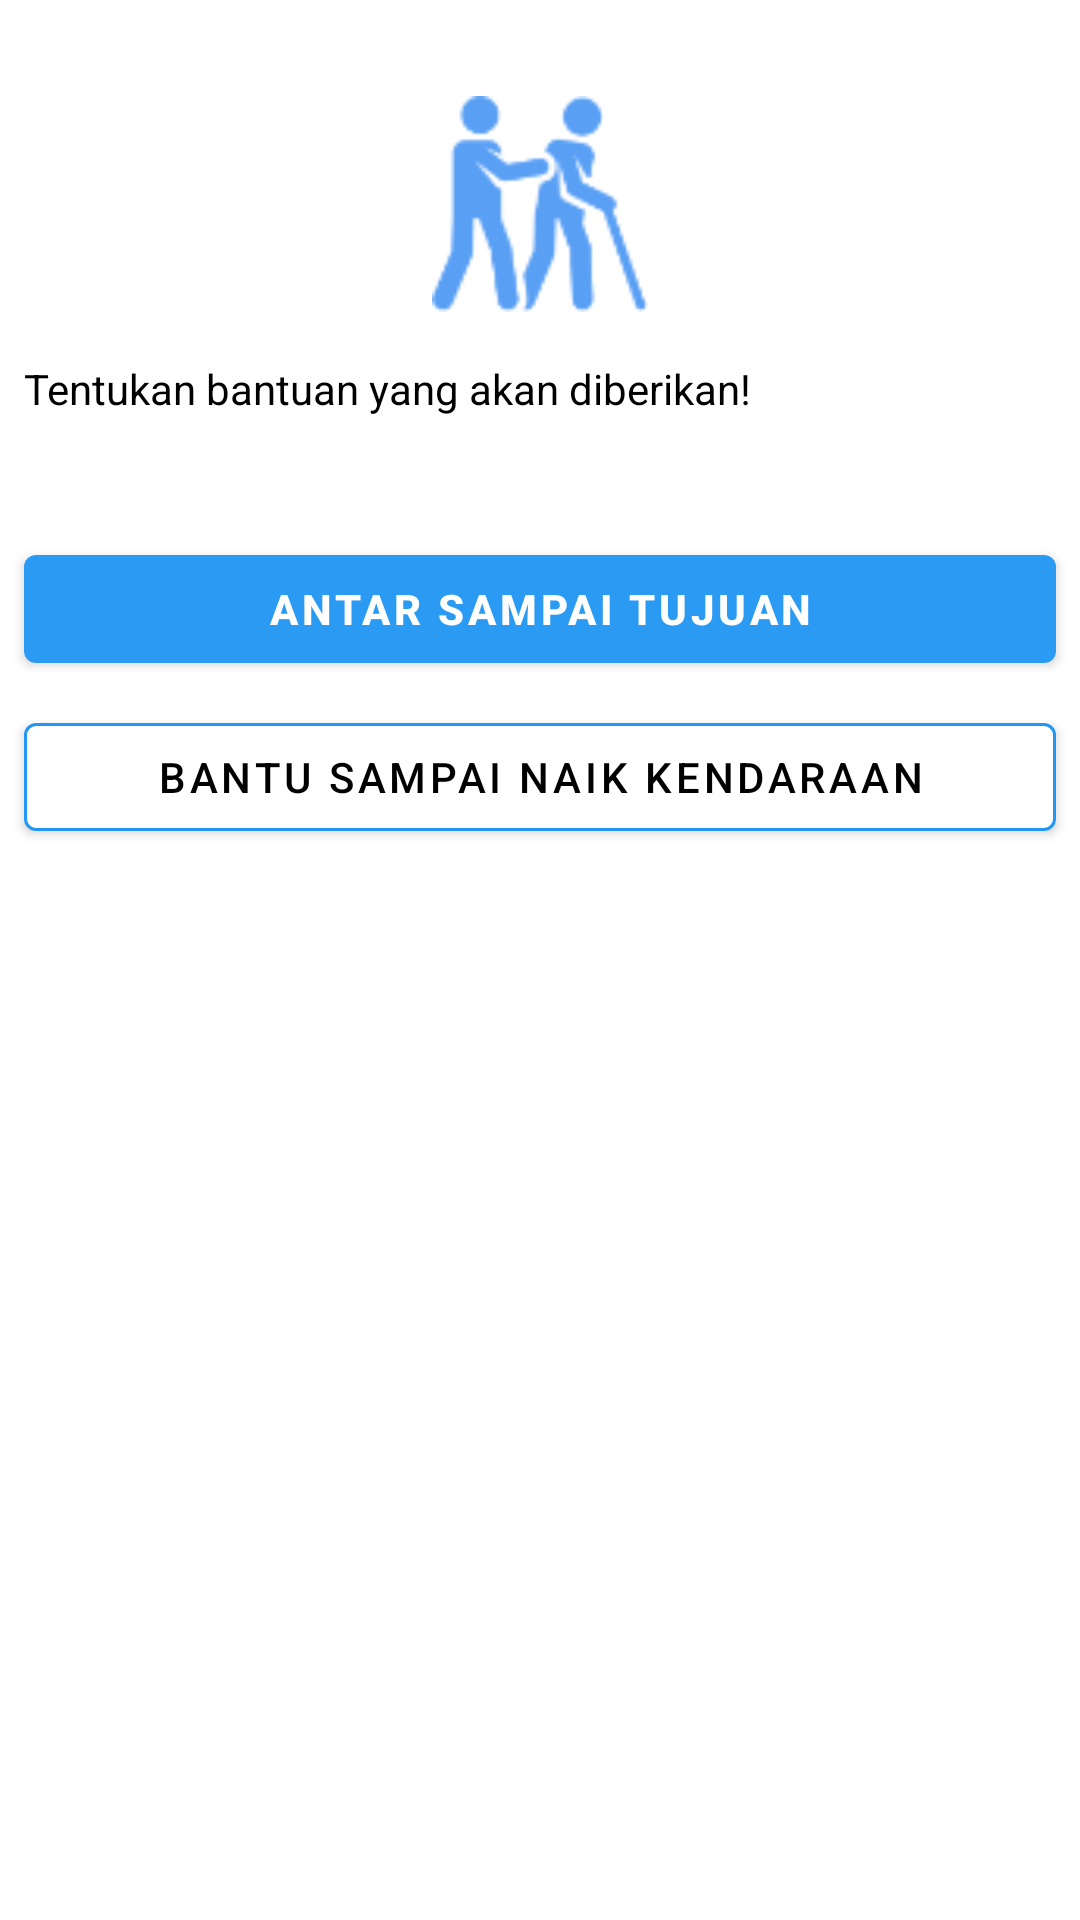

Icon click points for this 1080 x 1920 phone screenshot, format [x,y]:
volunteer: [540,204]
